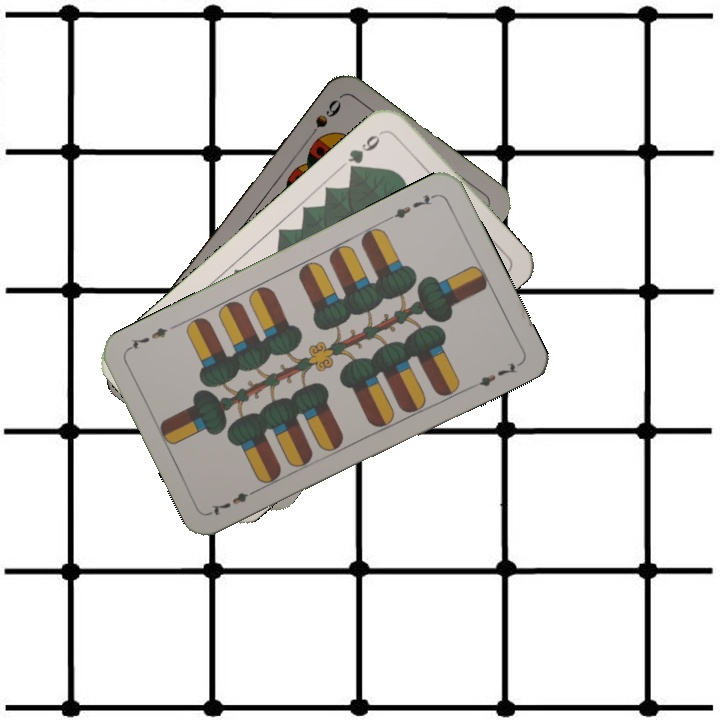E7: (207, 484, 262, 518), (384, 190, 439, 223)
G9: (343, 126, 388, 176)
S9: (302, 95, 344, 145)
